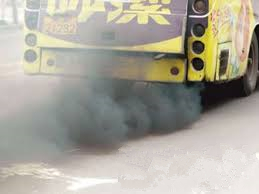smoke: (2, 75, 204, 155)
